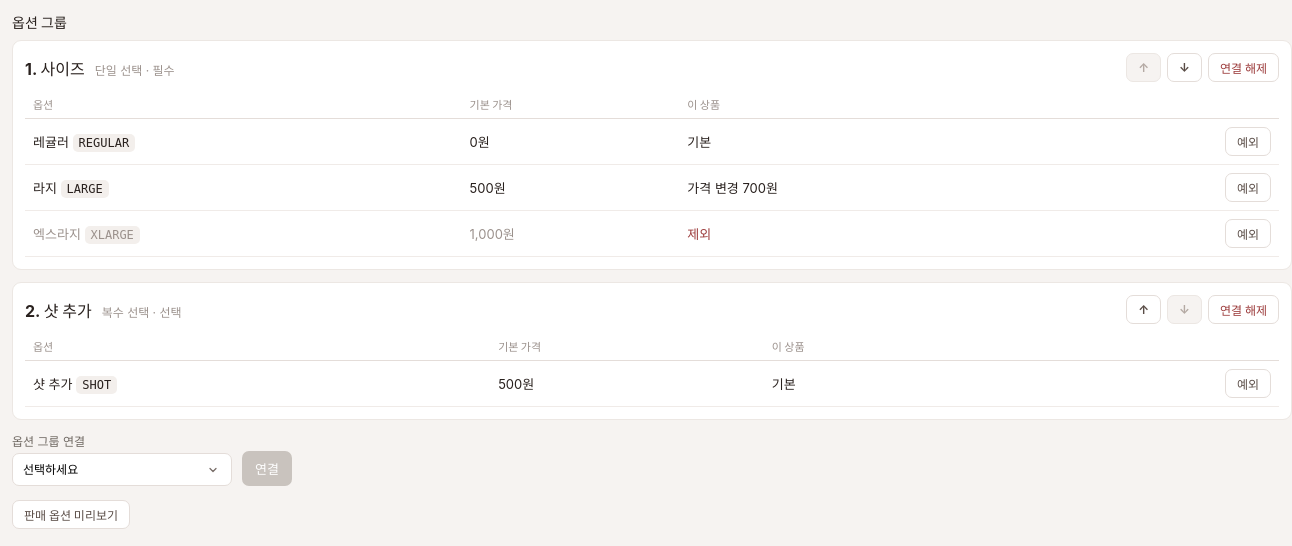
Scenario: 연결 › 고른 옵션 그룹을 상품 버전과 함께 연결하고 성공하면 선택을 비우고 토스트로 알린다
The width and height of the screenshot is (1292, 546).
Select "온도" in the dropdown labelled "옵션 그룹 연결" at (122, 470), box 12,453 -> 232,486
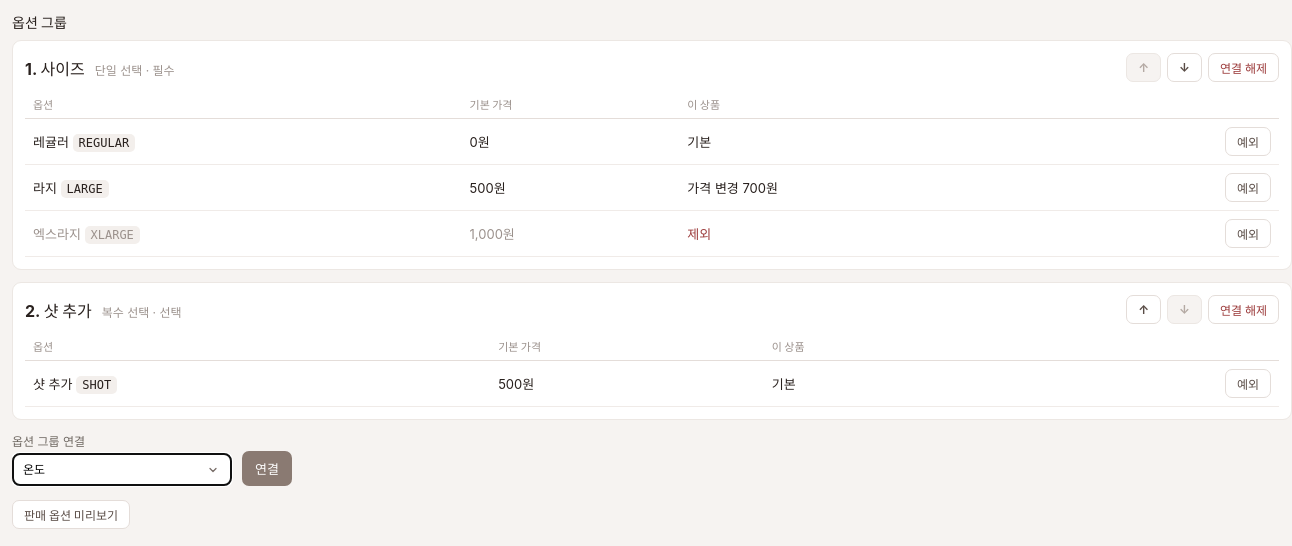
Click the button "연결" at (267, 468), box 242,451 -> 292,486
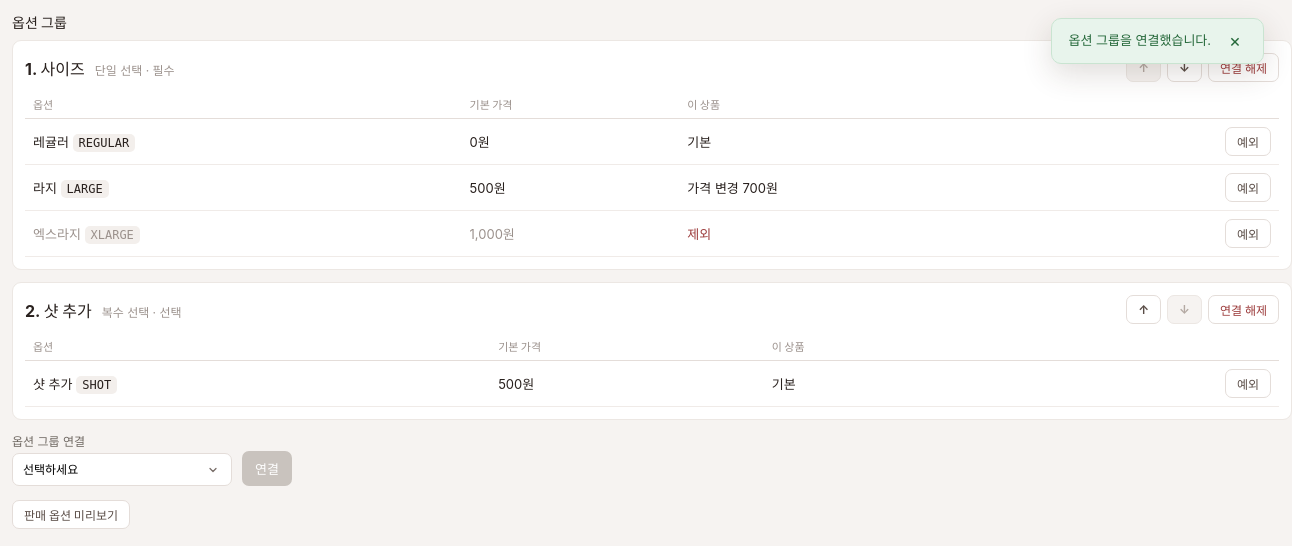
Check: the text "옵션 그룹을 연결했습니다." is shown, box 1068,32 -> 1211,48
